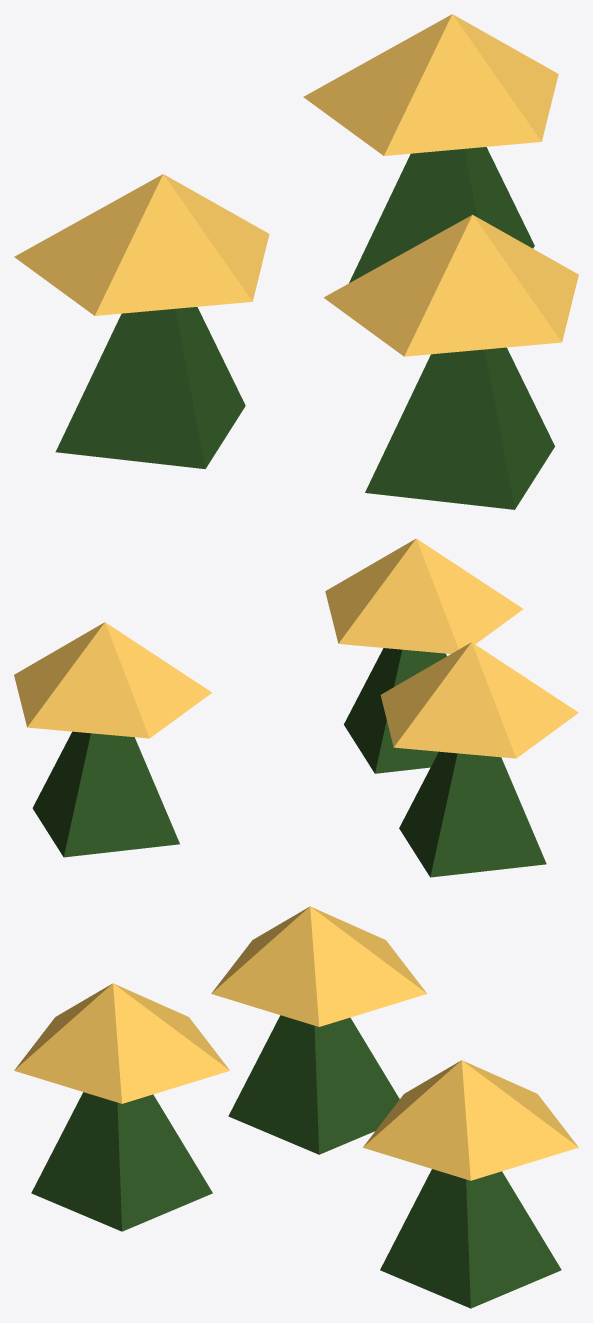
File: Flowers.fbx
The picture shows the model from 3 angles, top to bottom: view 1: azimuth 30°, elevation 25°; view 2: azimuth 150°, elevation 25°; view 3: azimuth 270°, elevation 25°; orthographic projection. The views are drawn at different scales.
Visible parts, largest first — view 1: Flowers; view 2: Flowers; view 3: Flowers.
Part boxes in pixels (box(x1,y1,x2,y2)): Flowers: box(14, 14, 578, 509); Flowers: box(14, 538, 578, 877); Flowers: box(14, 906, 578, 1308).
Size of the model in its own units: 37.57 by 15.5 by 37.27.
